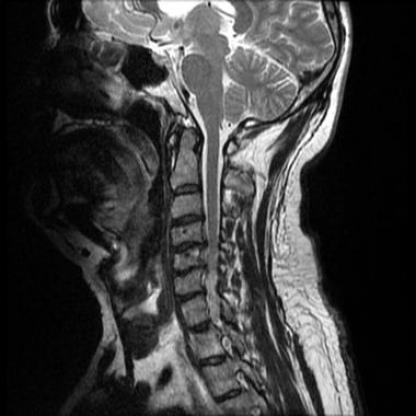Disc Protrusionrotation: (173, 287, 209, 303), (169, 264, 206, 279), (170, 239, 206, 253), (170, 213, 206, 227)
Osteophytesrotation: (173, 287, 209, 303), (170, 264, 207, 279), (170, 213, 206, 227), (170, 239, 206, 253)
